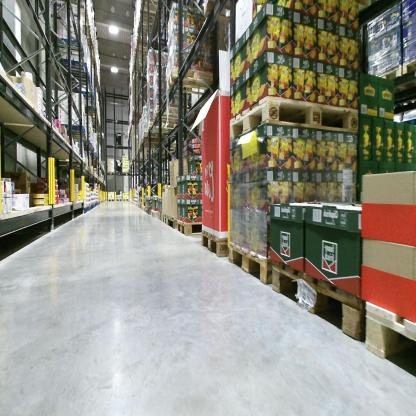pallet: (271, 253, 366, 347), (226, 94, 360, 146), (359, 298, 416, 382), (227, 239, 278, 289), (166, 61, 220, 95), (200, 229, 227, 261), (154, 104, 197, 123), (201, 1, 236, 24), (175, 217, 207, 238), (51, 39, 86, 57), (146, 119, 187, 133), (143, 133, 178, 143), (140, 138, 167, 148), (167, 210, 180, 230), (137, 142, 165, 149), (77, 24, 91, 33), (162, 213, 169, 227), (150, 209, 158, 219), (157, 211, 163, 223), (107, 197, 116, 202), (116, 197, 123, 203), (147, 207, 151, 216), (141, 205, 145, 213), (123, 198, 128, 203), (145, 207, 147, 215)
